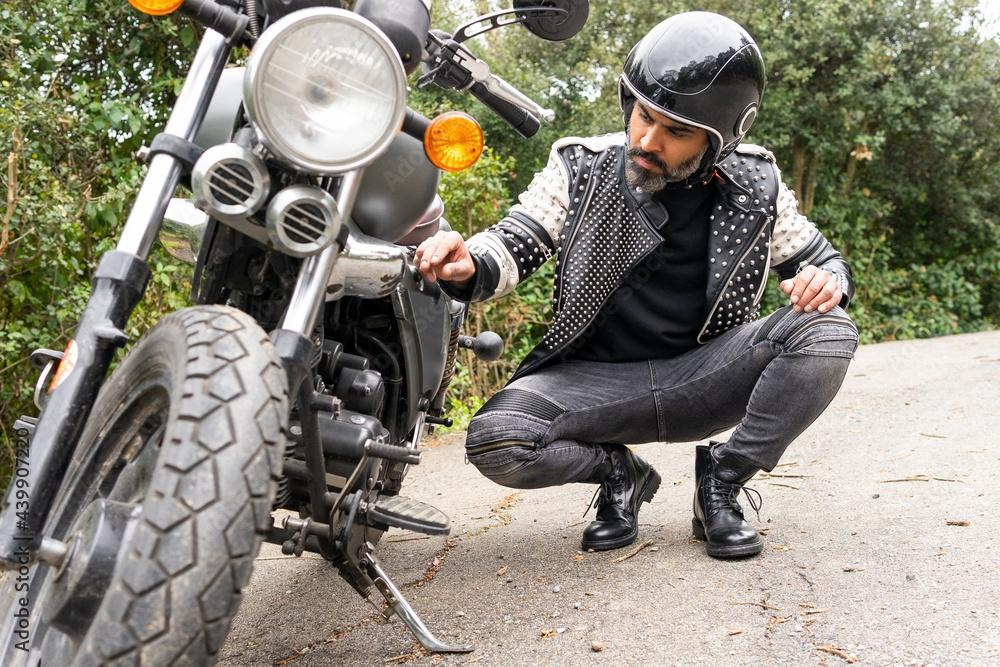helmet: (617, 9, 767, 195)
